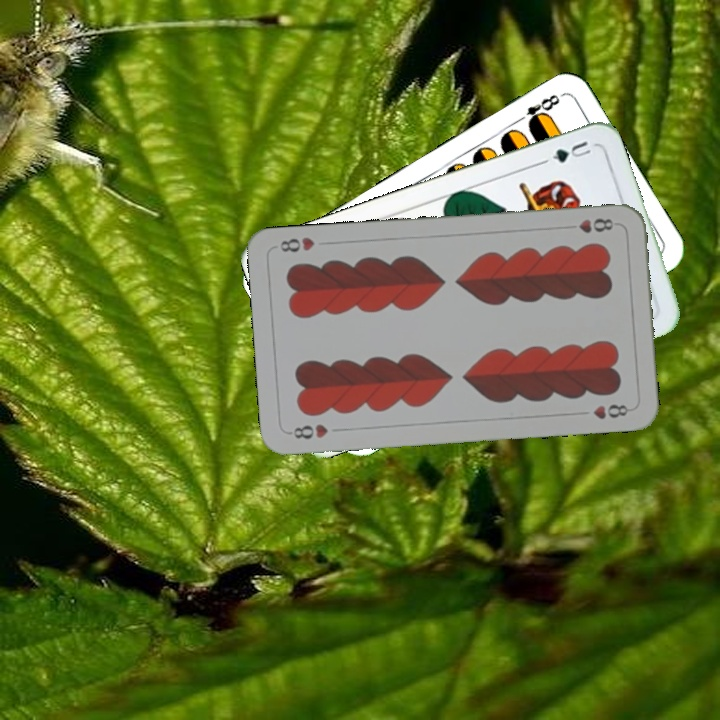E8: (511, 90, 563, 130)
GU: (539, 136, 594, 166)
H8: (561, 214, 616, 236), (285, 419, 331, 442)
